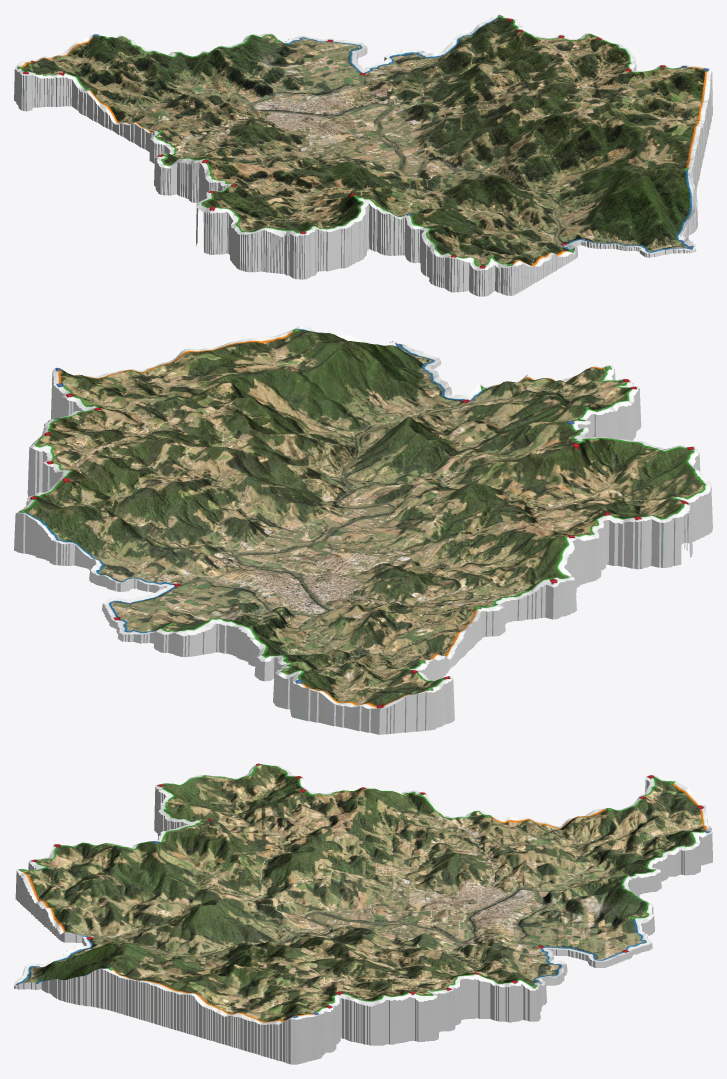
3 views of the same model, one above another, from view 1: azimuth 30°, elevation 25°; view 2: azimuth 150°, elevation 25°; view 3: azimuth 270°, elevation 25° (orthographic). The views are drawn at different scales.
Bounding box in the file's own units: 1 × 0.086 × 1.14.
Materials: 1 (1 with a texture image).
